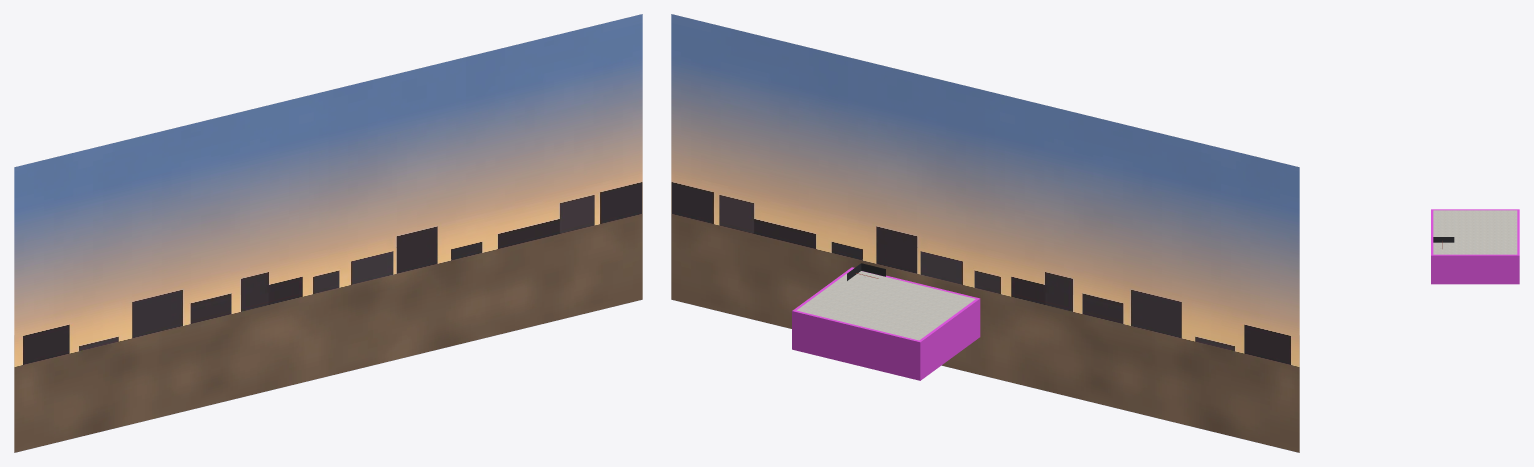
The model's file is mokwon_room12.glb.
3 views of the same model, side by side, from view 1: azimuth 30°, elevation 25°; view 2: azimuth 150°, elevation 25°; view 3: azimuth 270°, elevation 25° (orthographic). The views are drawn at different scales.
Visible parts, largest first — view 1: sky_backdrop; view 2: sky_backdrop, static, col_wall_corridor, col_wall_front; view 3: static, col_wall_back.
Boxes of the visible parts, x1=… form: sky_backdrop: x1=14, y1=14, x2=642, y2=452; sky_backdrop: x1=671, y1=14, x2=1299, y2=452; static: x1=796, y1=269, x2=975, y2=340; col_wall_corridor: x1=794, y1=310, x2=918, y2=379; col_wall_front: x1=917, y1=298, x2=980, y2=380; static: x1=1433, y1=210, x2=1517, y2=254; col_wall_back: x1=1431, y1=254, x2=1519, y2=284.
Bounding box in the file's own units: 46 × 20 × 16.4.
Materials: 37 (16 with a texture image).
